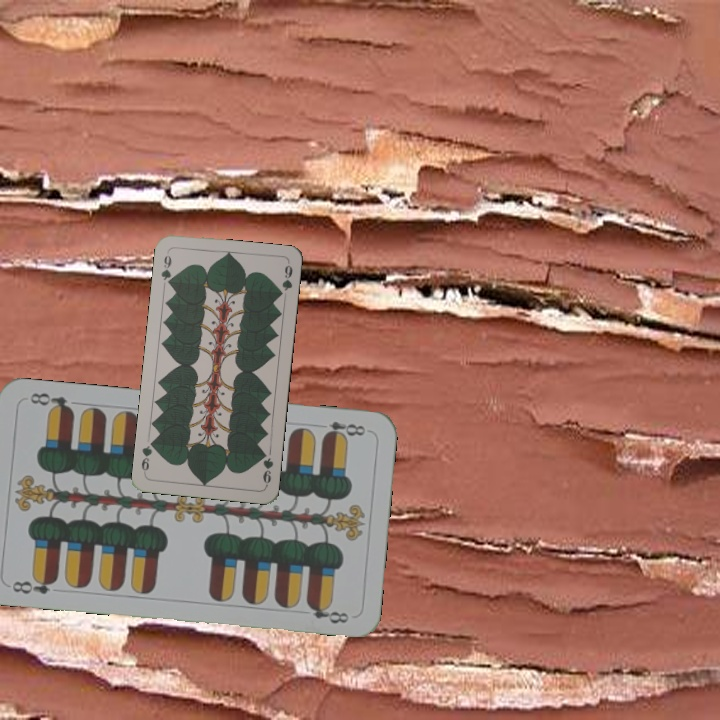E8: (8, 572, 60, 597), (319, 417, 368, 442)
G9: (258, 447, 276, 488), (157, 248, 174, 289)
